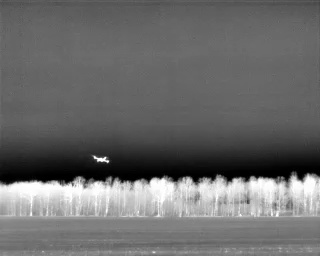DRONE: (89, 151, 114, 168)
